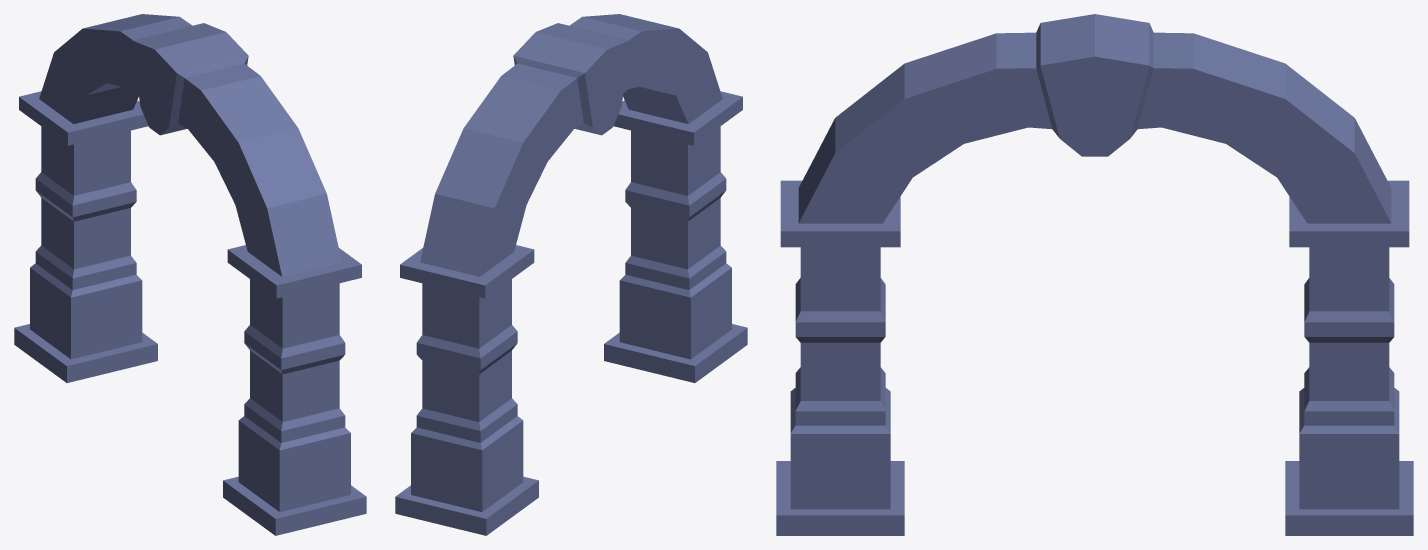
The model's file is arch_1_1.fbx.
3 views of the same model, side by side, from view 1: azimuth 30°, elevation 25°; view 2: azimuth 150°, elevation 25°; view 3: azimuth 270°, elevation 25° (orthographic). The views are drawn at different scales.
Parts seen in each view (by area): view 1: arch_1_1; view 2: arch_1_1; view 3: arch_1_1.
Part boxes in pixels (x1,y1,x2,y2): arch_1_1: (14,14,366,535); arch_1_1: (395,14,747,535); arch_1_1: (776,14,1413,535).
Size of the model in its own units: 2.18 by 8.89 by 10.84.
